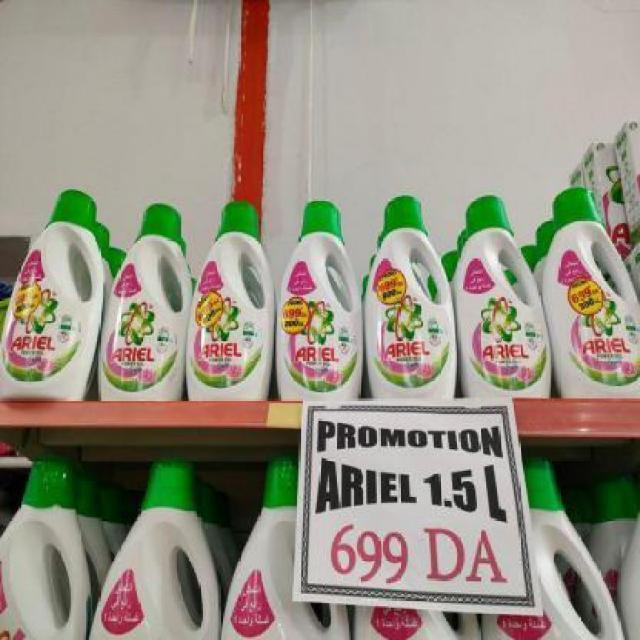Detergent: (0, 179, 102, 408), (547, 163, 640, 397), (362, 188, 458, 400), (98, 187, 192, 396), (451, 189, 544, 396), (184, 191, 276, 400), (274, 192, 363, 403)
